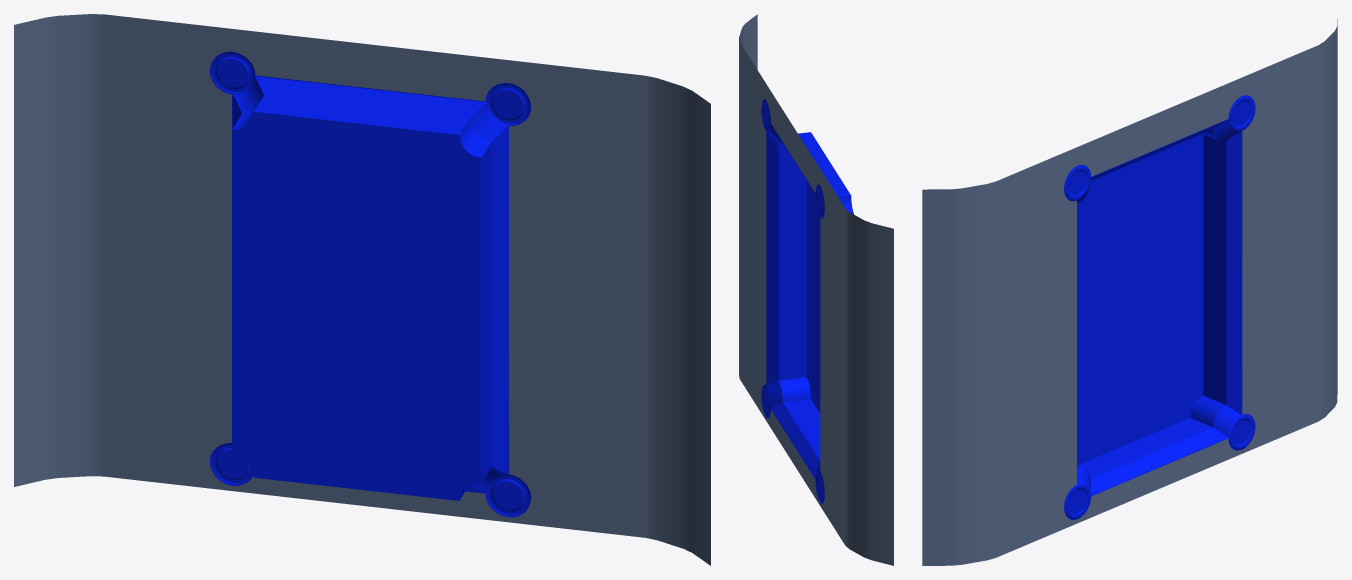
The model's file is Building_Wall_03e_snaps016.fbx.
3 renders of one model, left to right at view 1: azimuth 30°, elevation 25°; view 2: azimuth 150°, elevation 25°; view 3: azimuth 270°, elevation 25°, orthographic. The views are drawn at different scales.
Parts seen in each view (by area): view 1: Building_Wall_03e_snaps016_LOD0; view 2: Building_Wall_03e_snaps016_LOD0; view 3: Building_Wall_03e_snaps016_LOD0.
Boxes of the visible parts, box(x1,y1,x2,y2) form: Building_Wall_03e_snaps016_LOD0: box(14, 14, 710, 565); Building_Wall_03e_snaps016_LOD0: box(739, 14, 893, 565); Building_Wall_03e_snaps016_LOD0: box(922, 19, 1337, 565).
Size of what is drawn, in the model's own units: 3 by 3 by 3.
